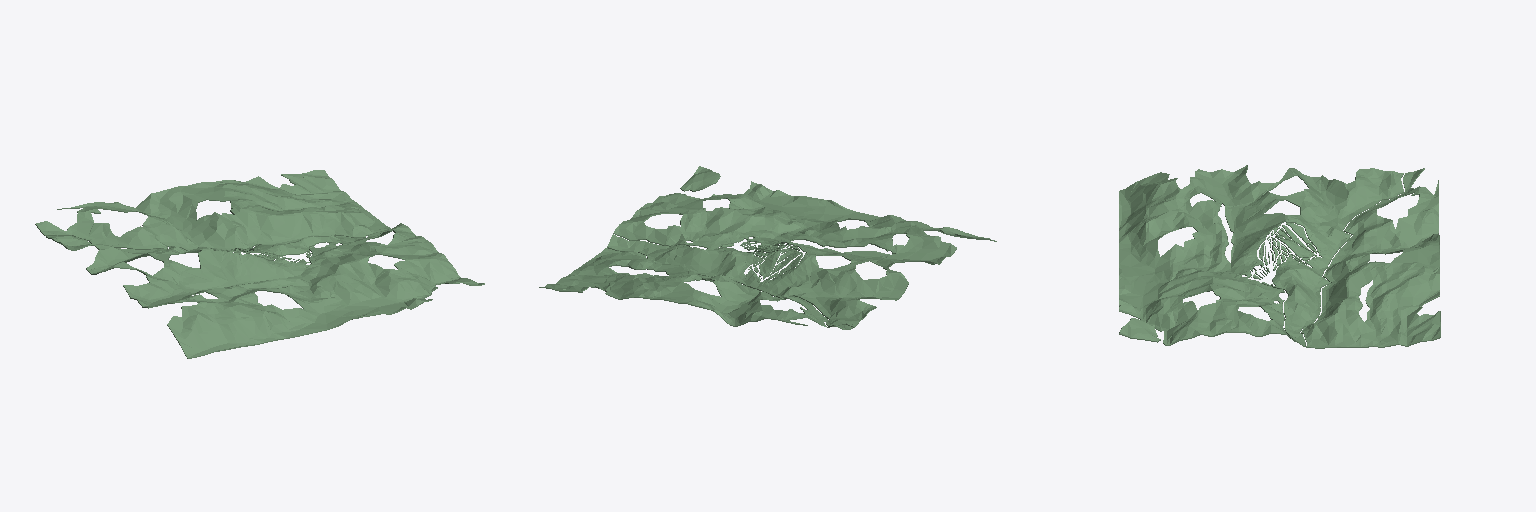
The model's file is forest.obj.
3 views of the same model, side by side, from view 1: azimuth 30°, elevation 25°; view 2: azimuth 150°, elevation 25°; view 3: azimuth 270°, elevation 25° (orthographic).
Parts seen in each view (by area): view 1: forest002; view 2: forest002; view 3: forest002.
Boxes of the visible parts, box(x1,y1,x2,y2) form: forest002: box(35, 170, 484, 358); forest002: box(539, 166, 996, 329); forest002: box(1119, 165, 1440, 348).
Size of the model in its own units: 176 by 22.82 by 165.